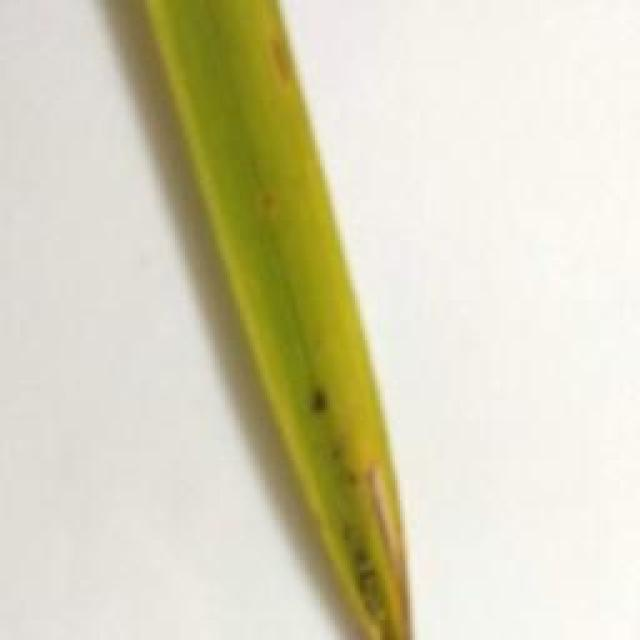Brown_Spot: (333, 512, 415, 640), (261, 22, 296, 92), (303, 385, 338, 431), (252, 179, 278, 216)
